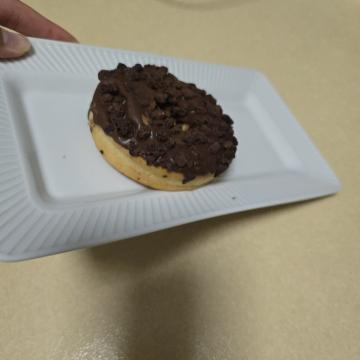doughnut: (49, 112, 198, 287)
